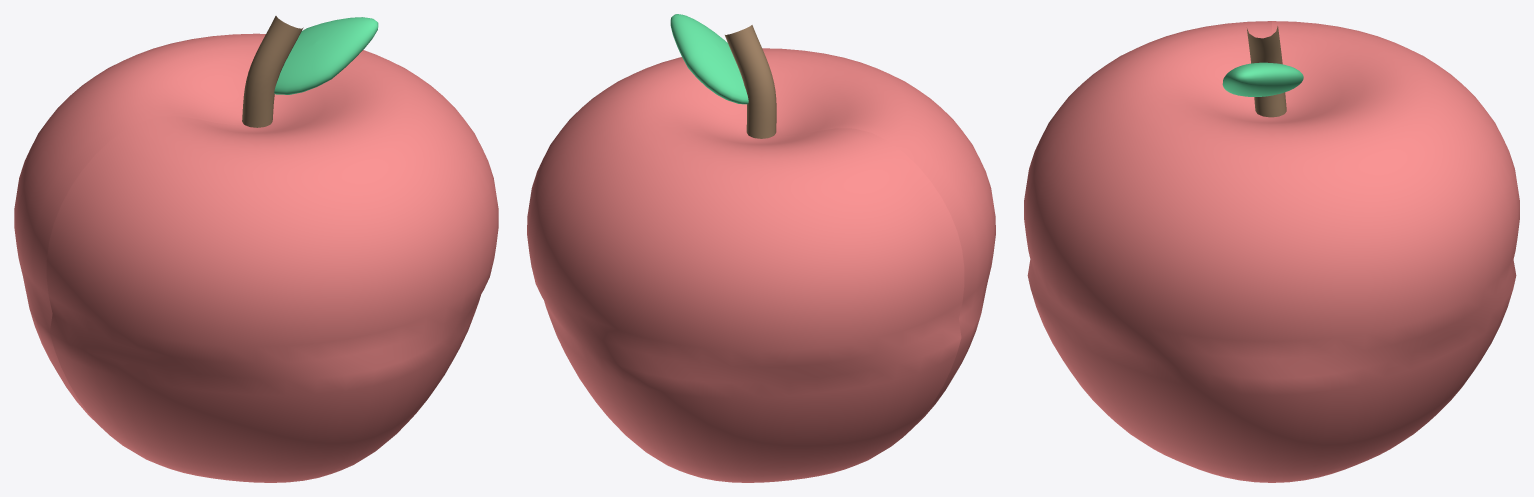
The model's file is apple.glb.
The picture shows the model from 3 angles, left to right: view 1: azimuth 30°, elevation 25°; view 2: azimuth 150°, elevation 25°; view 3: azimuth 270°, elevation 25°; orthographic projection. The views are drawn at different scales.
Parts seen in each view (by area): view 1: Apple_Body, Apple_Leaf, Apple_Stem; view 2: Apple_Body, Apple_Leaf, Apple_Stem; view 3: Apple_Body, Apple_Leaf, Apple_Stem.
Part boxes in pixels (bbox=[...]): Apple_Body: bbox=[14, 33, 498, 482]; Apple_Leaf: bbox=[274, 17, 378, 94]; Apple_Stem: bbox=[242, 16, 303, 127]; Apple_Body: bbox=[527, 48, 995, 482]; Apple_Leaf: bbox=[670, 14, 748, 104]; Apple_Stem: bbox=[725, 25, 776, 138]; Apple_Body: bbox=[1024, 21, 1519, 482]; Apple_Leaf: bbox=[1222, 62, 1303, 96]; Apple_Stem: bbox=[1247, 26, 1286, 117].
Bounding box in the file's own units: 2.06 × 1.98 × 2.06.
